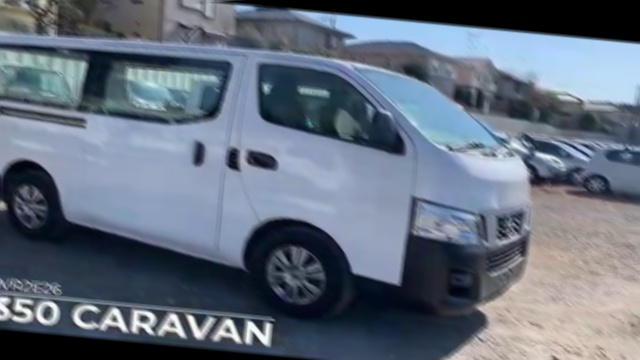van: (0, 21, 546, 331)
